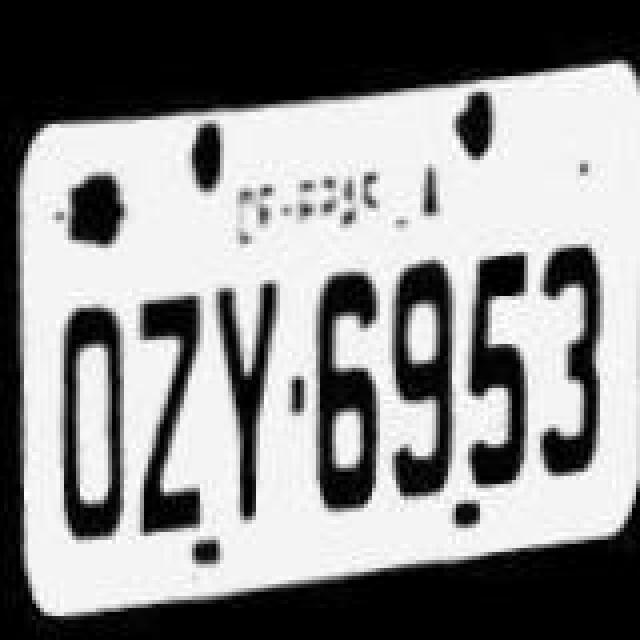3: (526, 224, 610, 488)
5: (452, 228, 540, 500)
6: (298, 242, 382, 522)
9: (378, 232, 454, 508)
O: (48, 284, 132, 564)
Y: (208, 260, 288, 532)
Z: (126, 272, 214, 548)
